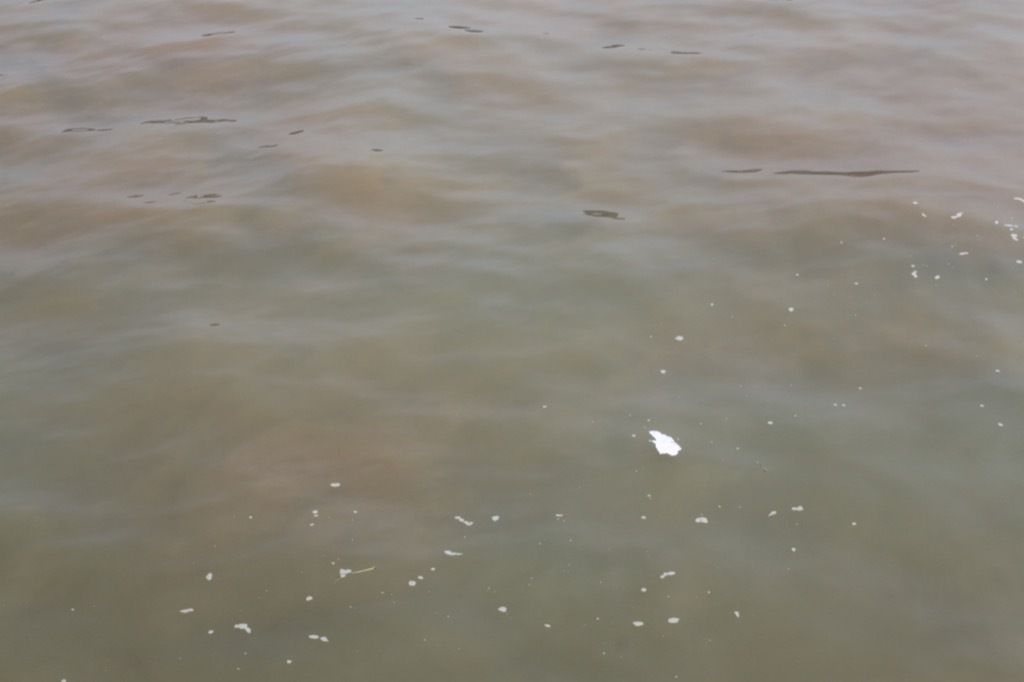plastic: (642, 425, 689, 467)
